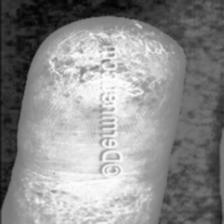Non-Cancerous Skin Condition: (51, 18, 173, 94), (15, 174, 151, 224)
